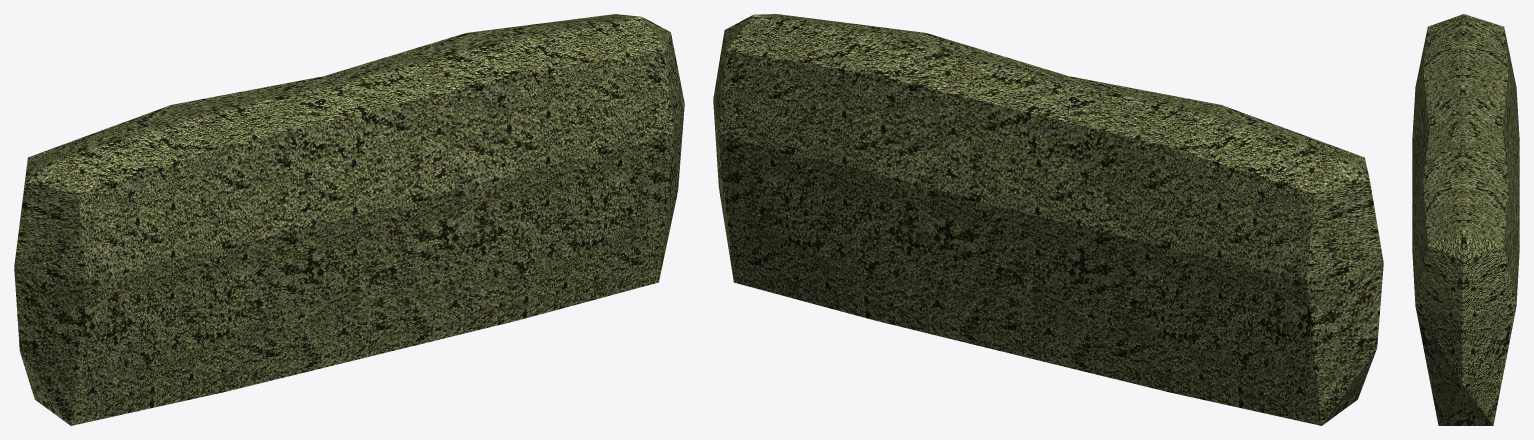
Rendered from Hedge01_Medium.dae.
The picture shows the model from 3 angles, left to right: view 1: azimuth 30°, elevation 25°; view 2: azimuth 150°, elevation 25°; view 3: azimuth 270°, elevation 25°; orthographic projection. The views are drawn at different scales.
Visible parts, largest first — view 1: Hedge1_Mature; view 2: Hedge1_Mature; view 3: Hedge1_Mature.
Part boxes in pixels (x1,y1,x2,y2): Hedge1_Mature: [14, 14, 684, 425]; Hedge1_Mature: [713, 14, 1383, 425]; Hedge1_Mature: [1412, 14, 1519, 425].
Size of the model in its own units: 4.56 by 1.71 by 0.8312.
Materials: 1 (1 with a texture image).
